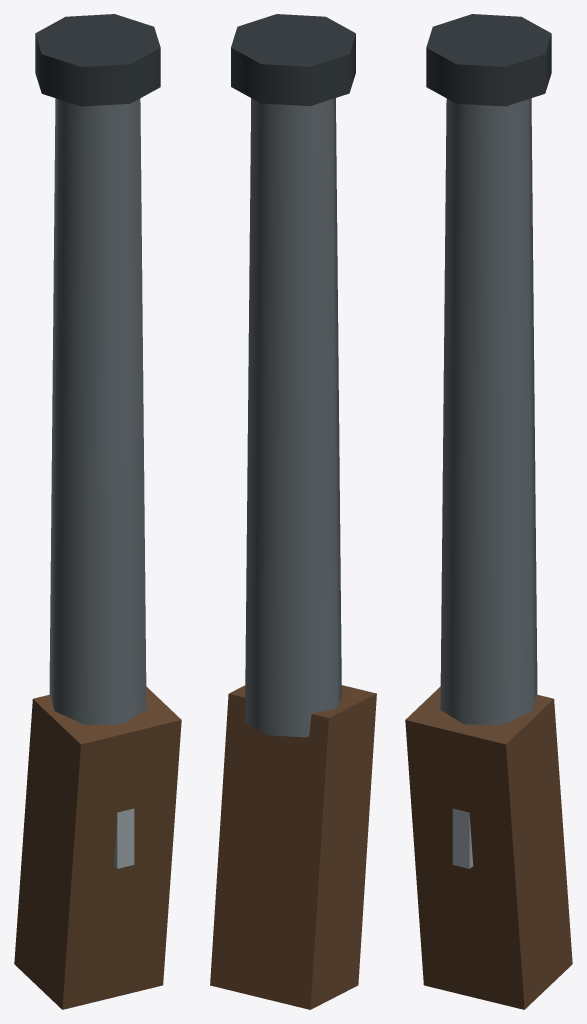
Rendered from musket.glb.
3 renders of one model, left to right at view 1: azimuth 30°, elevation 25°; view 2: azimuth 150°, elevation 25°; view 3: azimuth 330°, elevation 25°, orthographic.
Parts seen in each view (by area): view 1: musket-barrel, musket-stock, musket-muzzle-ring, musket-trigger; view 2: musket-barrel, musket-stock, musket-muzzle-ring; view 3: musket-barrel, musket-stock, musket-muzzle-ring, musket-trigger.
Part boxes in pixels (x1,y1,x2,y2): musket-barrel: (49, 98, 146, 724); musket-stock: (14, 686, 181, 1009); musket-muzzle-ring: (35, 14, 160, 106); musket-trigger: (113, 808, 134, 868); musket-barrel: (245, 98, 341, 737); musket-stock: (210, 685, 376, 1009); musket-muzzle-ring: (231, 14, 355, 106); musket-barrel: (440, 98, 537, 724); musket-stock: (405, 686, 572, 1009); musket-muzzle-ring: (426, 14, 551, 106); musket-trigger: (452, 808, 473, 868).
Bounding box in the file's own units: 0.134 × 1.08 × 0.1376.
